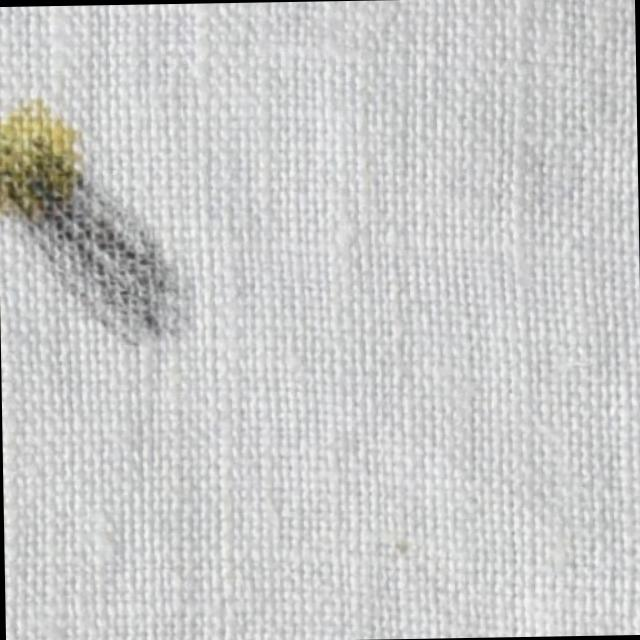Stain: (0, 92, 188, 340)
